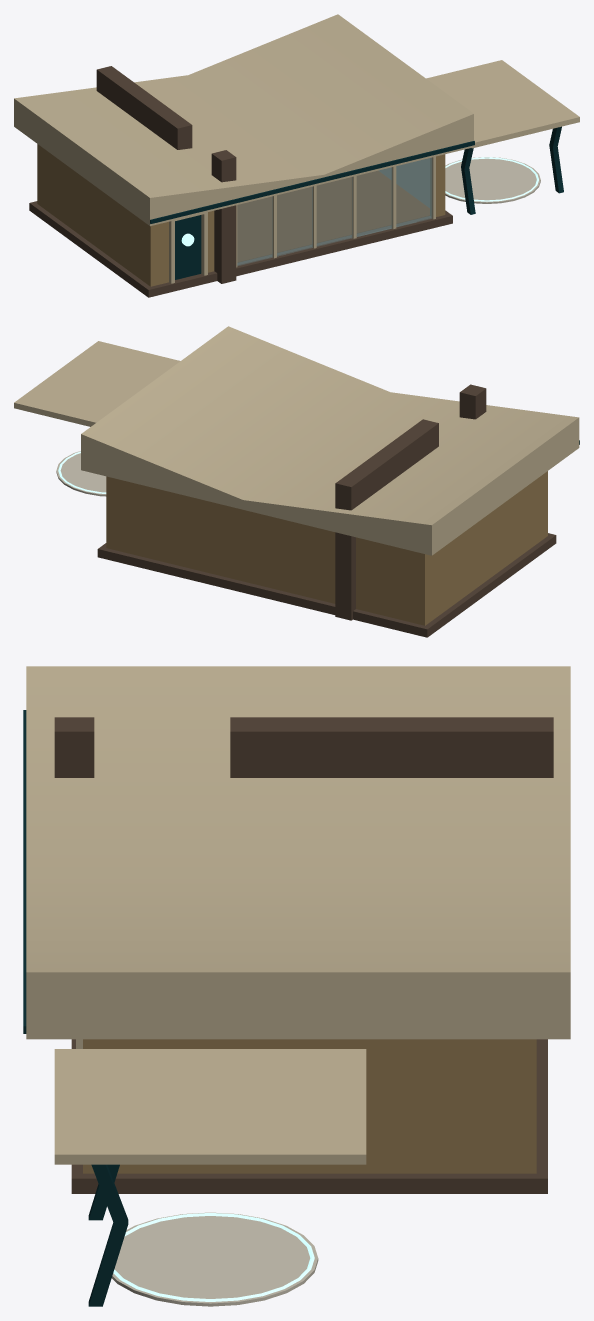
Rendered from bungalow_butterfly.glb.
3 views of the same model, one above another, from view 1: azimuth 30°, elevation 25°; view 2: azimuth 150°, elevation 25°; view 3: azimuth 270°, elevation 25° (orthographic). The views are drawn at different scales.
Parts seen in each view (by area): view 1: bungalow_butterfly, door_home_leaf; view 2: bungalow_butterfly; view 3: bungalow_butterfly.
Boxes of the visible parts, box(x1,y1,x2,y2) form: bungalow_butterfly: box(14, 14, 579, 297); door_home_leaf: box(175, 215, 201, 279); bungalow_butterfly: box(14, 326, 579, 637); bungalow_butterfly: box(23, 666, 570, 1306).
Bounding box in the file's own units: 17.8 × 4.8 × 9.65.
